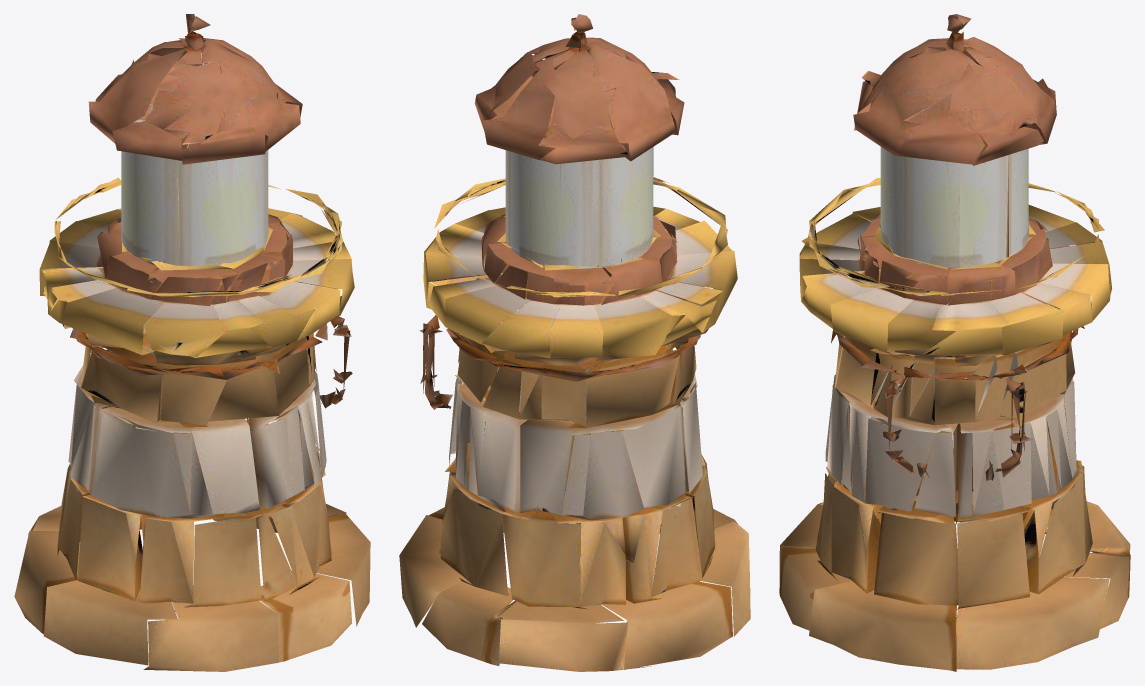
File: sea-lock-light.lod1.glb
3 renders of one model, left to right at view 1: azimuth 30°, elevation 25°; view 2: azimuth 150°, elevation 25°; view 3: azimuth 270°, elevation 25°, orthographic.
Visible parts, largest first — view 1: sea-lock-light_lod1; view 2: sea-lock-light_lod1; view 3: sea-lock-light_lod1.
Boxes of the visible parts, left/top/right/bottom form: sea-lock-light_lod1: left=14, top=14, right=370, bottom=671; sea-lock-light_lod1: left=399, top=14, right=750, bottom=671; sea-lock-light_lod1: left=779, top=14, right=1130, bottom=671.
Bounding box in the file's own units: 2.79 × 5.04 × 2.74.
1 material, 1 textured.
